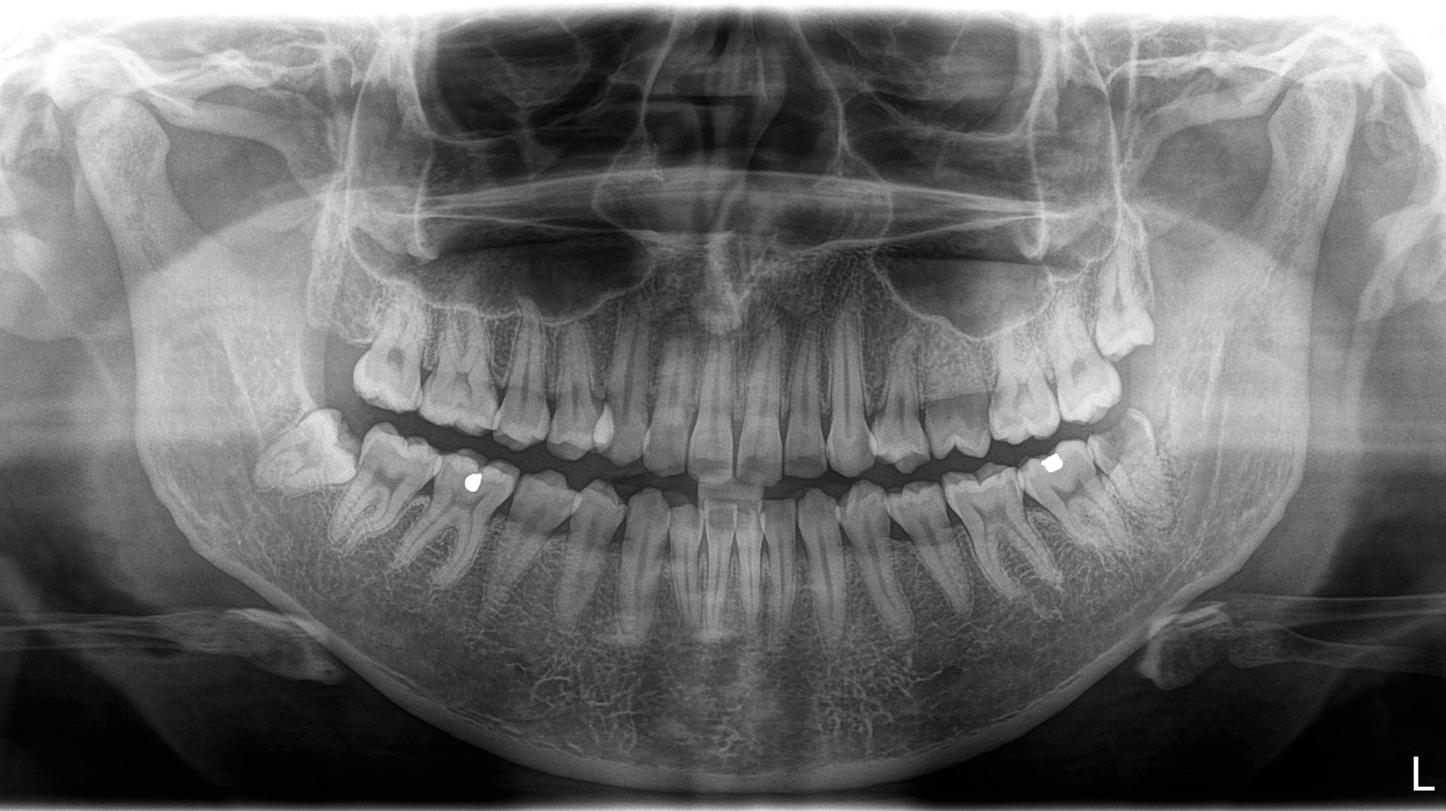Dental Caries: (1098, 431, 1152, 476)
Impacted Third Molar: (251, 404, 355, 488), (1101, 256, 1173, 372)
